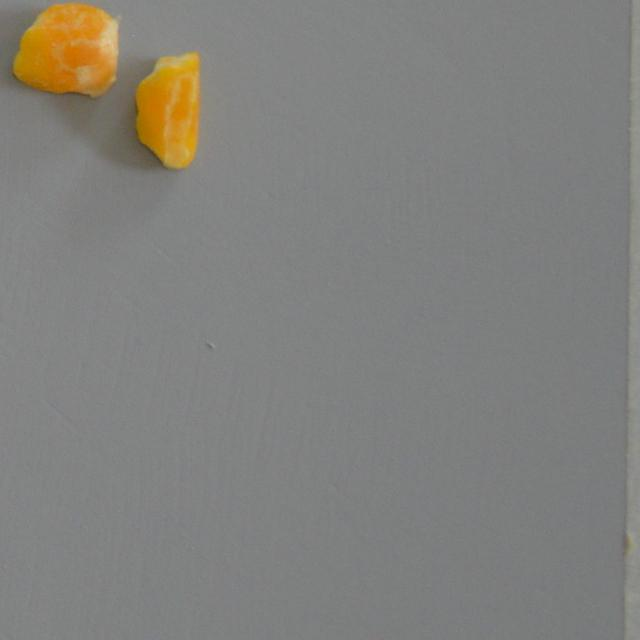pelicula: (8, 0, 120, 100), (129, 46, 214, 168)
